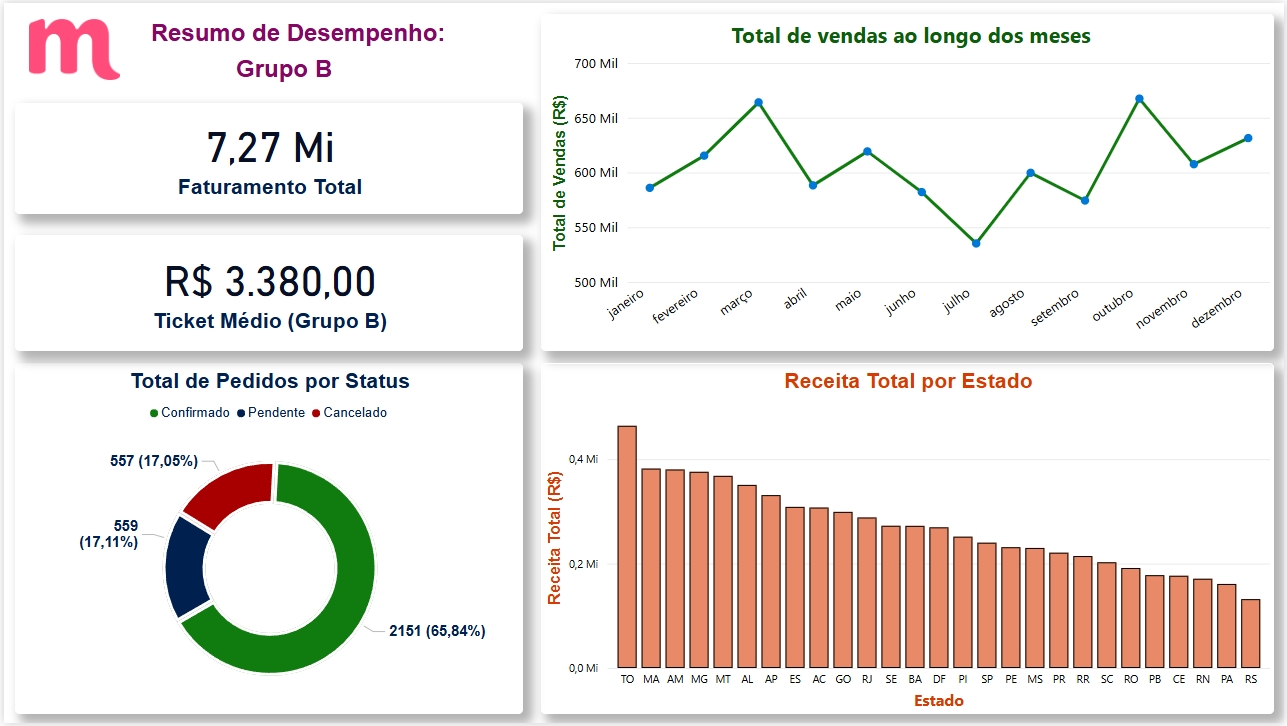

What the dashboard file says about the page in this screenshot:
{"tool":"powerbi","page":{"name":"Página 1","canvas":[1280,720],"ordinal":0},"visuals":[{"type":"lineChart","title":"Total de vendas ao longo dos meses","fields":{"Category":["vendas_tempo.Mes.Variation.Hierarquia de datas.Mês"],"Y":["Sum(vendas_tempo.Faturamento)"]},"box":[566,0,714,360],"z":0},{"type":"donutChart","title":"Total de Pedidos por Status","fields":{"Category":["status_pedidos.status"],"Y":["Sum(status_pedidos.Total_Pedidos)"]},"box":[0,367,614,353],"z":1},{"type":"columnChart","title":"Receita Total por Estado","fields":{"Category":["top_estados.estado"],"Y":["Sum(top_estados.Receita_Total)"]},"box":[614,367,666,353],"z":2},{"type":"card","fields":{"Values":["Sum(ticket_medio.Ticket_Medio)"]},"box":[0,0,566,360],"z":3}]}

Visuals, with their boxes in screenshot pixels (x1, y1, x2, y2), scaled from the page's 1280x720 canvas onto the 1287x726 screenshot:
"Total de vendas ao longo dos meses" lineChart: l=569, t=0, r=1286, b=363
"Total de Pedidos por Status" donutChart: l=0, t=370, r=617, b=725
"Receita Total por Estado" columnChart: l=617, t=370, r=1286, b=725
card - Sum(ticket_medio.Ticket_Medio): l=0, t=0, r=569, b=363
